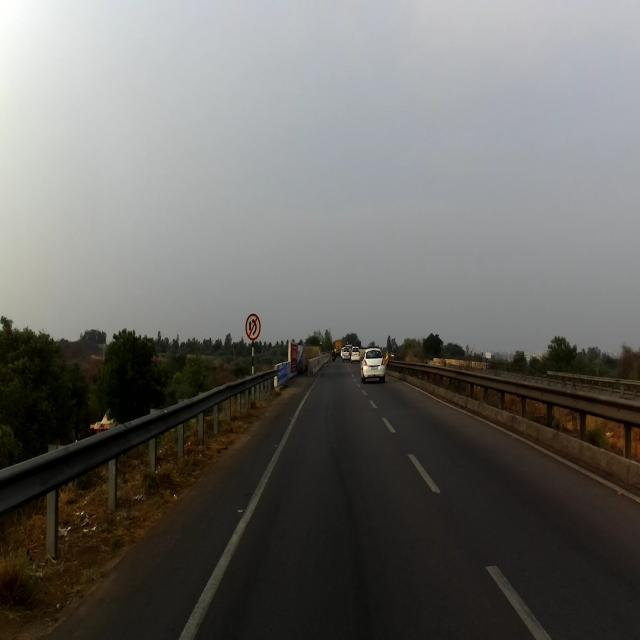Car_Maruti-Suzuki: (360, 346, 386, 383)
